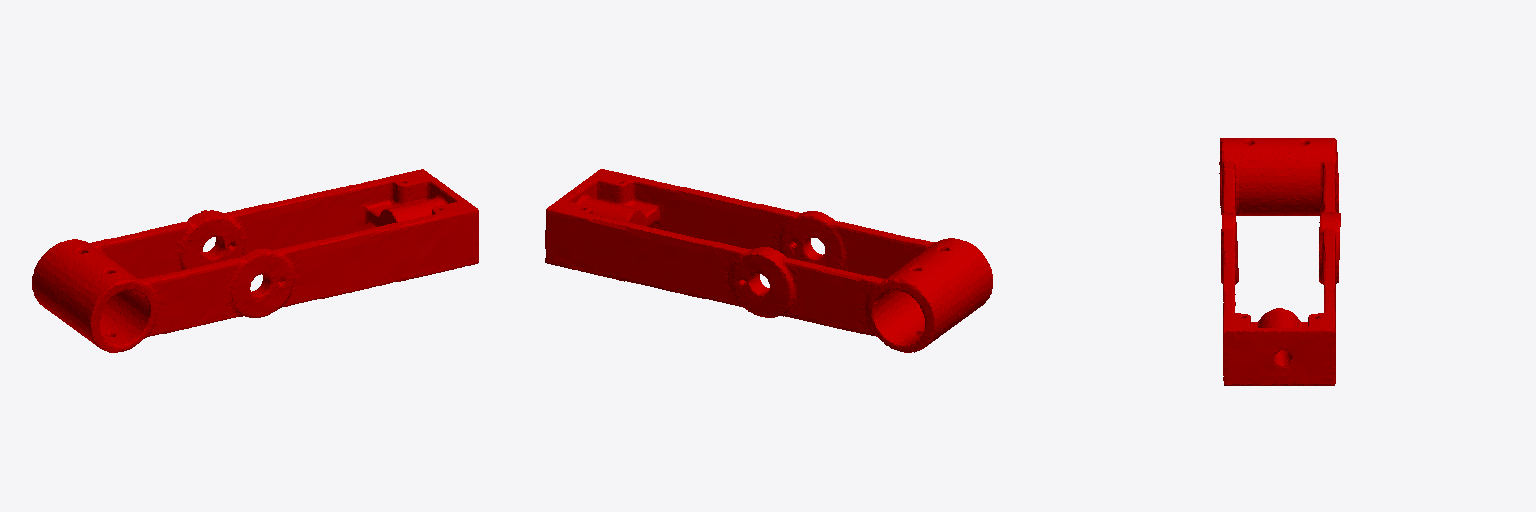
File: maxipid_bras.obj
The picture shows the model from 3 angles: view 1: azimuth 30°, elevation 25°; view 2: azimuth 150°, elevation 25°; view 3: azimuth 270°, elevation 25°; orthographic projection.
Parts seen in each view (by area): view 1: bras_4_remaille; view 2: bras_4_remaille; view 3: bras_4_remaille.
Part boxes in pixels (bbox=[...]): bras_4_remaille: bbox=[32, 169, 478, 352]; bras_4_remaille: bbox=[545, 169, 992, 352]; bras_4_remaille: bbox=[1219, 138, 1340, 385].
Bounding box in the file's own units: 230 × 40.19 × 61.75.